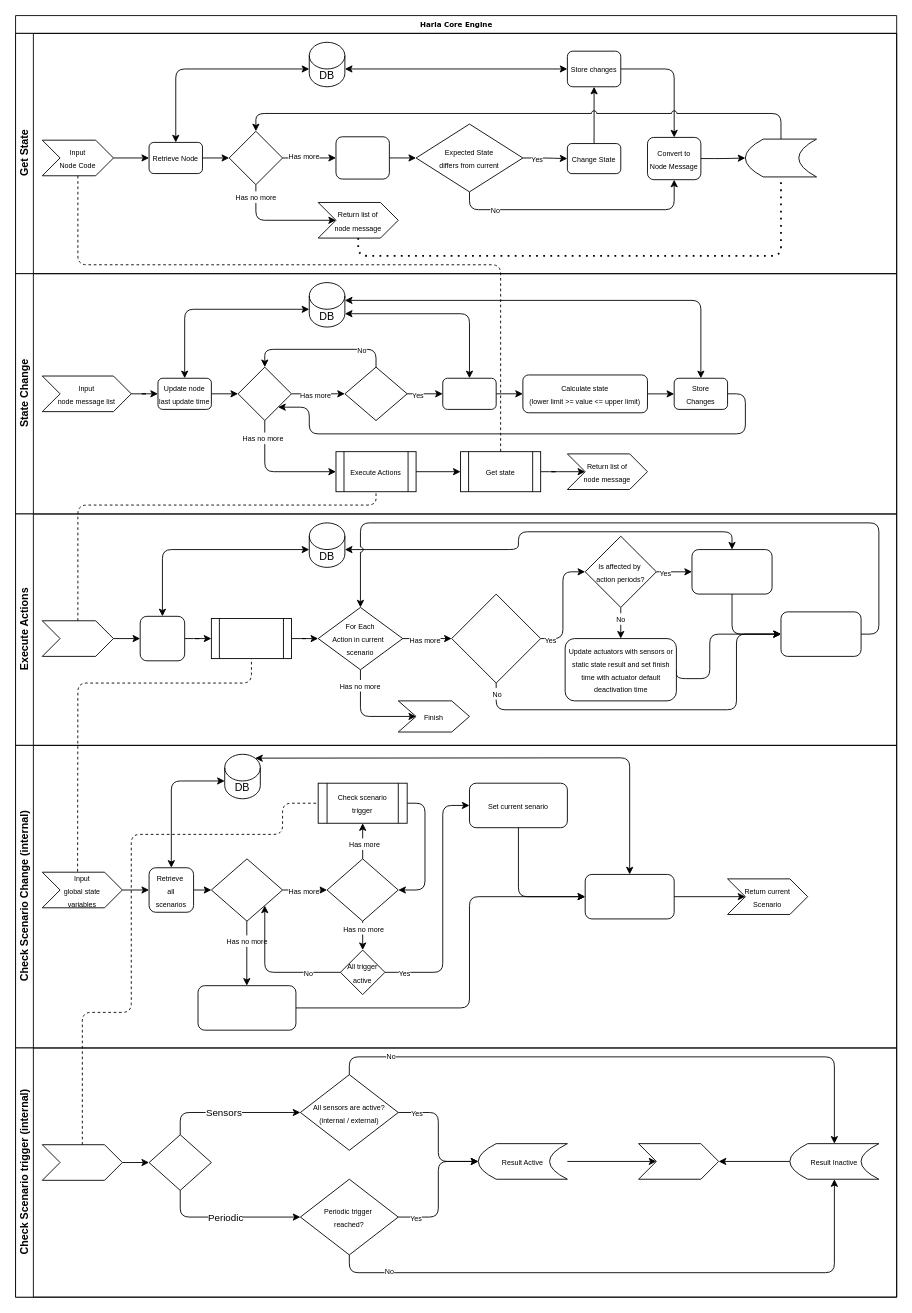
Some shapes in this 912 by 1313 pixel diagram are drawn without their labels. The centre of each missing label's shape, as x and y in pixels:
All sensors are active? (or no sensors): the point at 496,638
Apply result invertion if configured: the point at 820,633
Check deactivation time: the point at 362,157
Check scenario change: the point at 250,638
For Each Actuator: the point at 255,157
For Each message: the point at 264,393
For Each scenario: the point at 246,889
For Each Trigger in scenario: the point at 362,889
Increment result list: the point at 780,157
Input Scenario trigger: the point at 81,1162
Is Sensor message?: the point at 375,393
No input: the point at 77,638
Retrieve global state variables: the point at 162,638
Retrieve Sensor: the point at 469,393
Return result: the point at 678,1161
Set current senario as default scenario: the point at 246,1007
Store current scenario global variable: the point at 629,896
Trigger Type: the point at 179,1162
Update actuators with period result and finish time (internal / external): the point at 731,571
